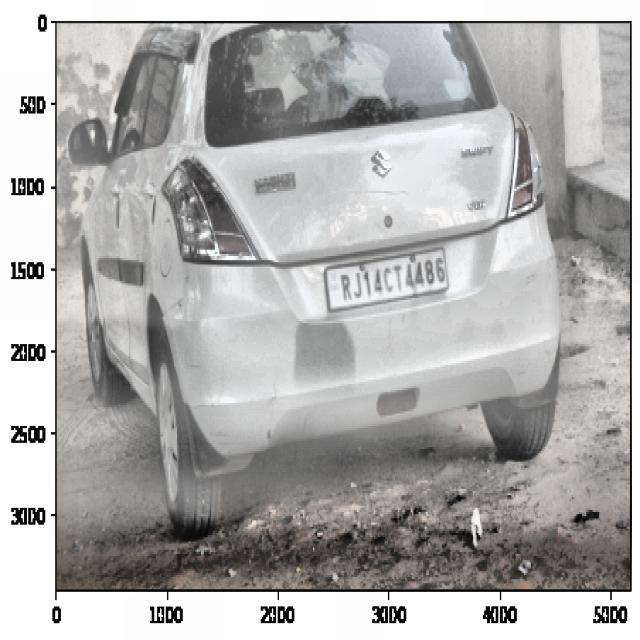license_plate: (338, 252, 449, 308)
